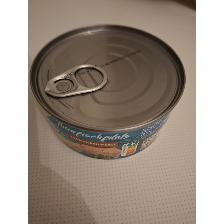Fisch: (29, 22, 189, 162)
